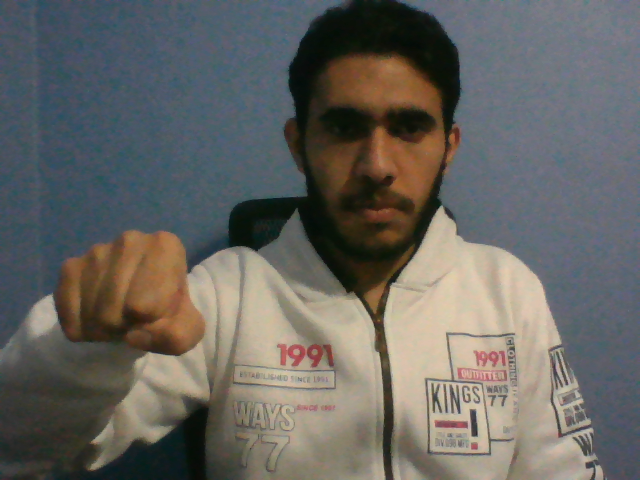yes: (49, 229, 211, 358)
